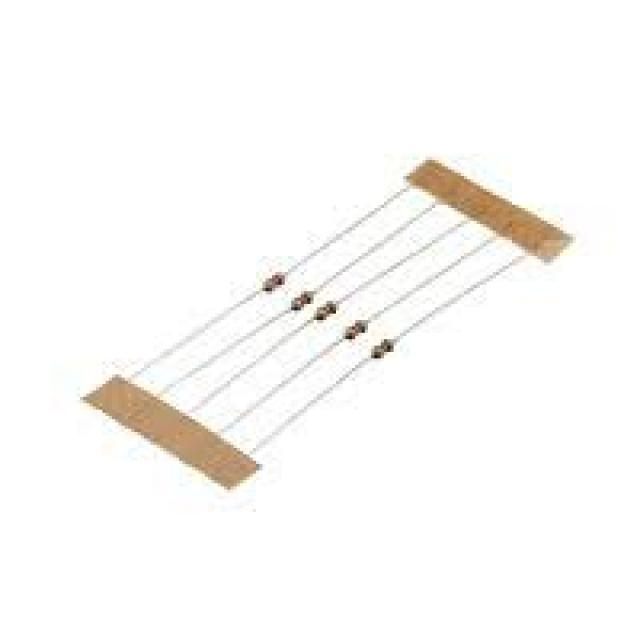Resistor: (292, 295, 338, 327), (362, 326, 397, 359), (261, 271, 296, 298), (264, 270, 288, 299)
